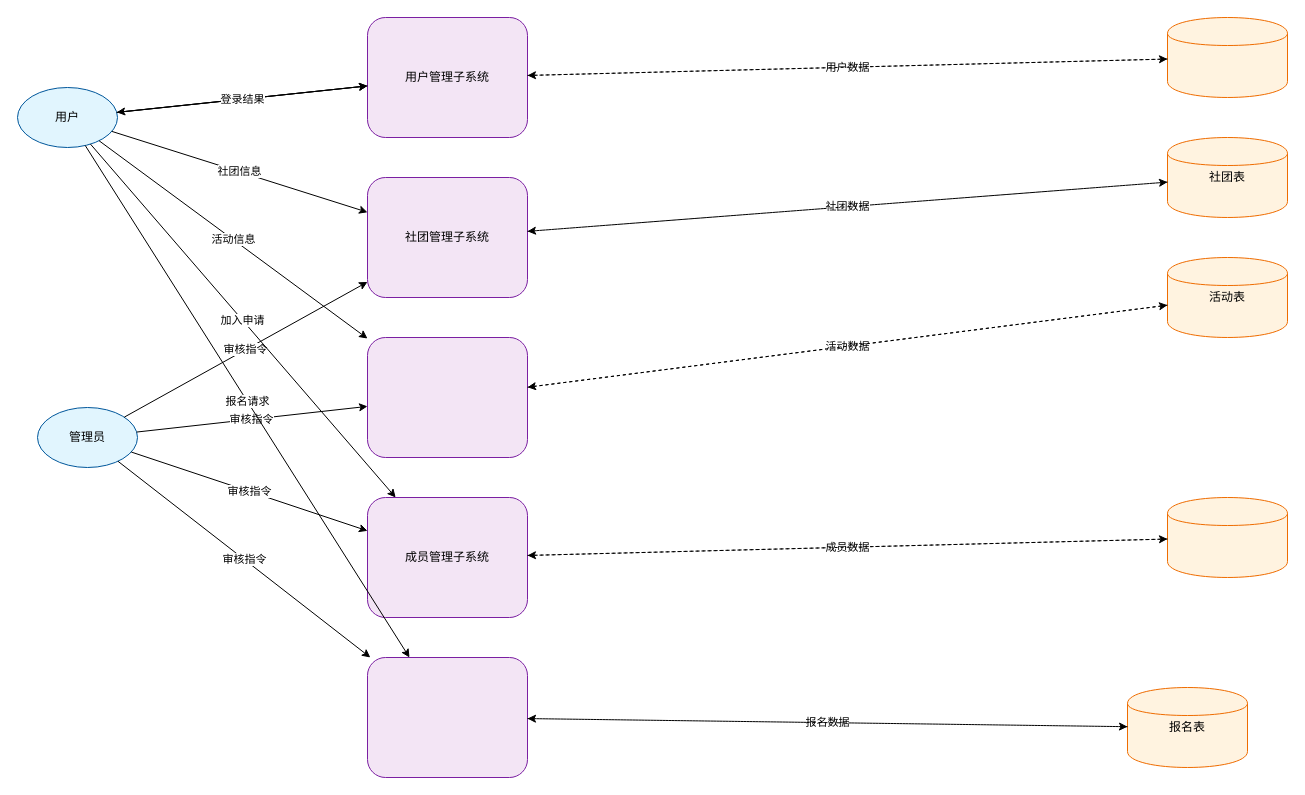
Image size: 1305x795. Some labels were removed from this diagram. Each missing label, with the centre of its shape:
成员表: the point at 1227,537
报名管理子系统: the point at 447,717
活动管理子系统: the point at 447,397
用户表: the point at 1227,57
